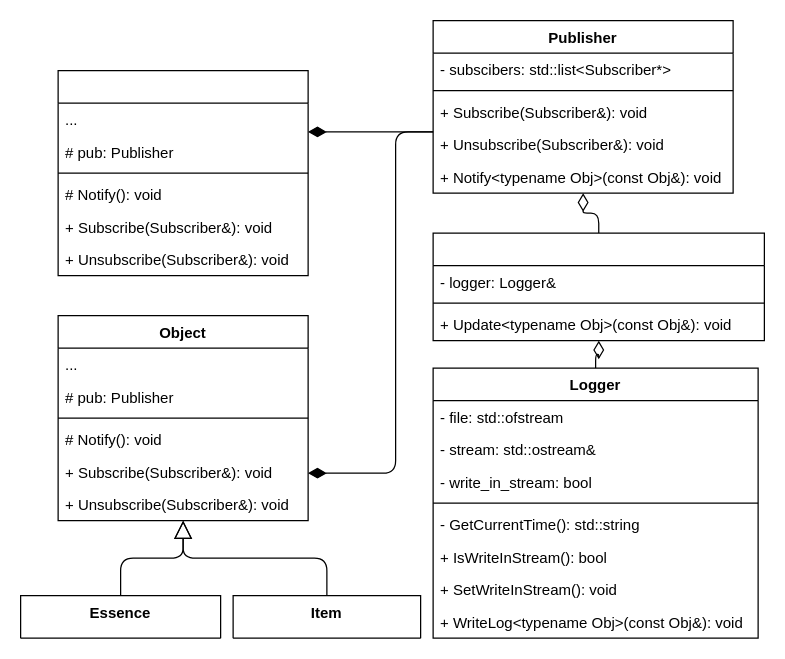
Image size: 785x659. Some labels were removed from this diagram. Each missing label, with the box of its shape:
Field: (57, 69, 308, 276)
Subscriber: (432, 232, 764, 341)
